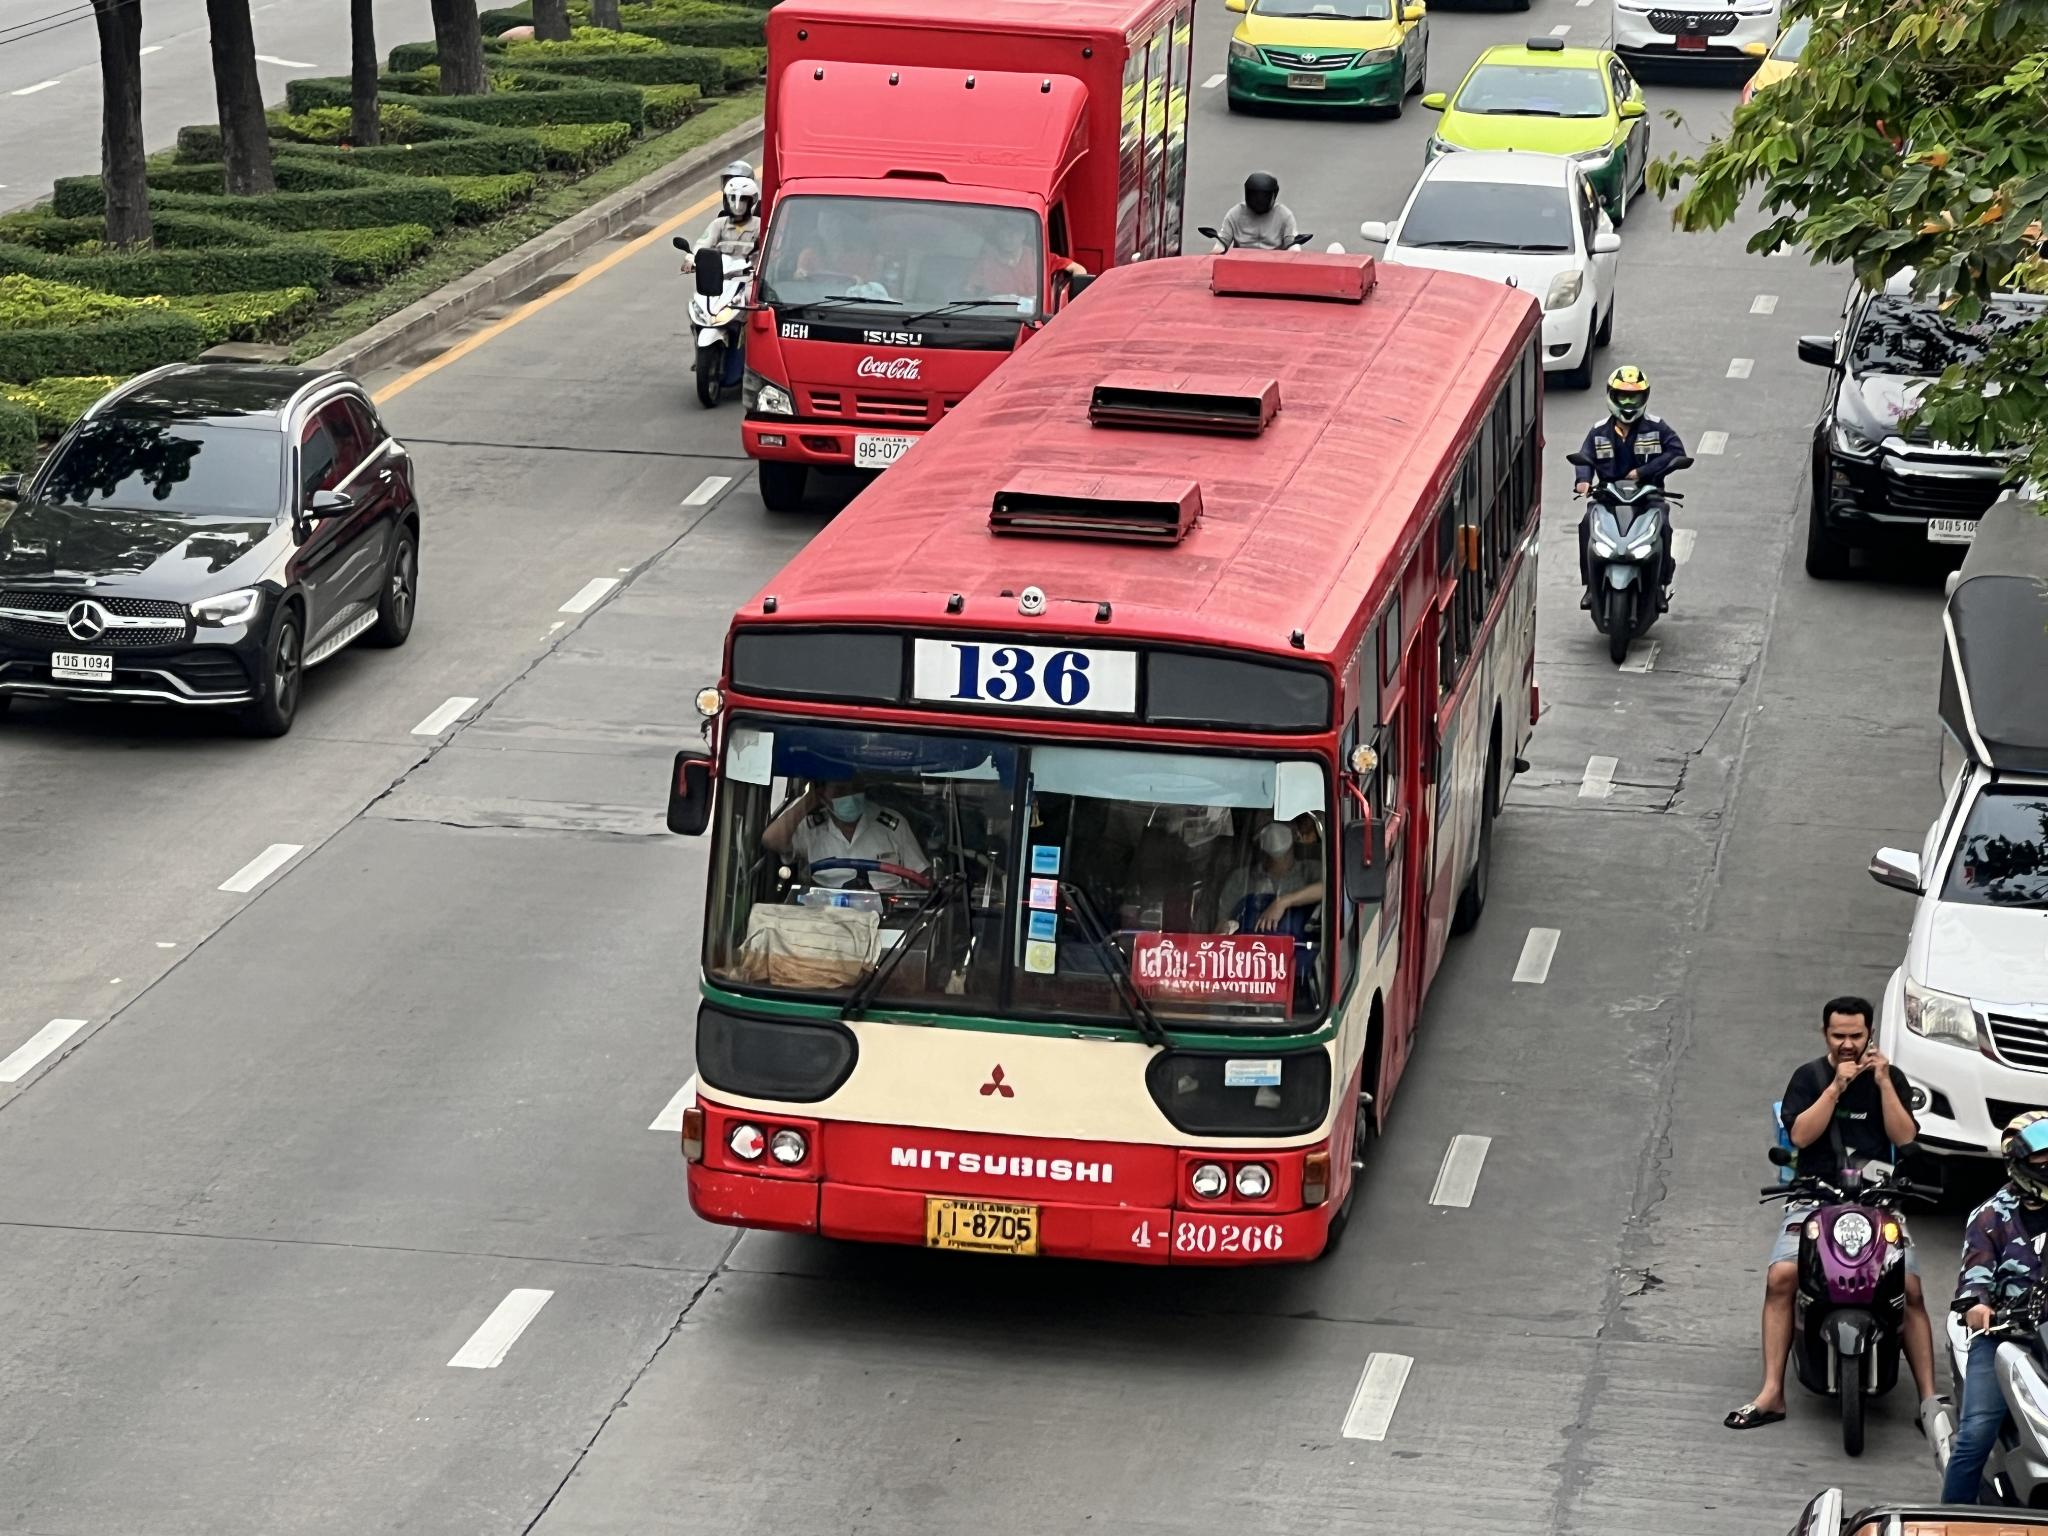BMTA-bus: (663, 248, 1545, 1275)
Bus Line Number: (908, 637, 1150, 724)
Bus Side Number: (1124, 1212, 1292, 1260)
Destination Sign: (1124, 923, 1308, 1029)
